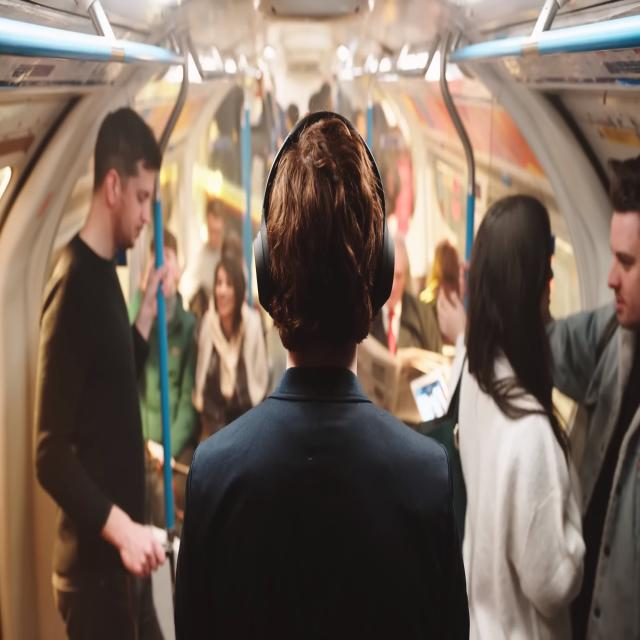Headphone: (251, 108, 394, 326)
